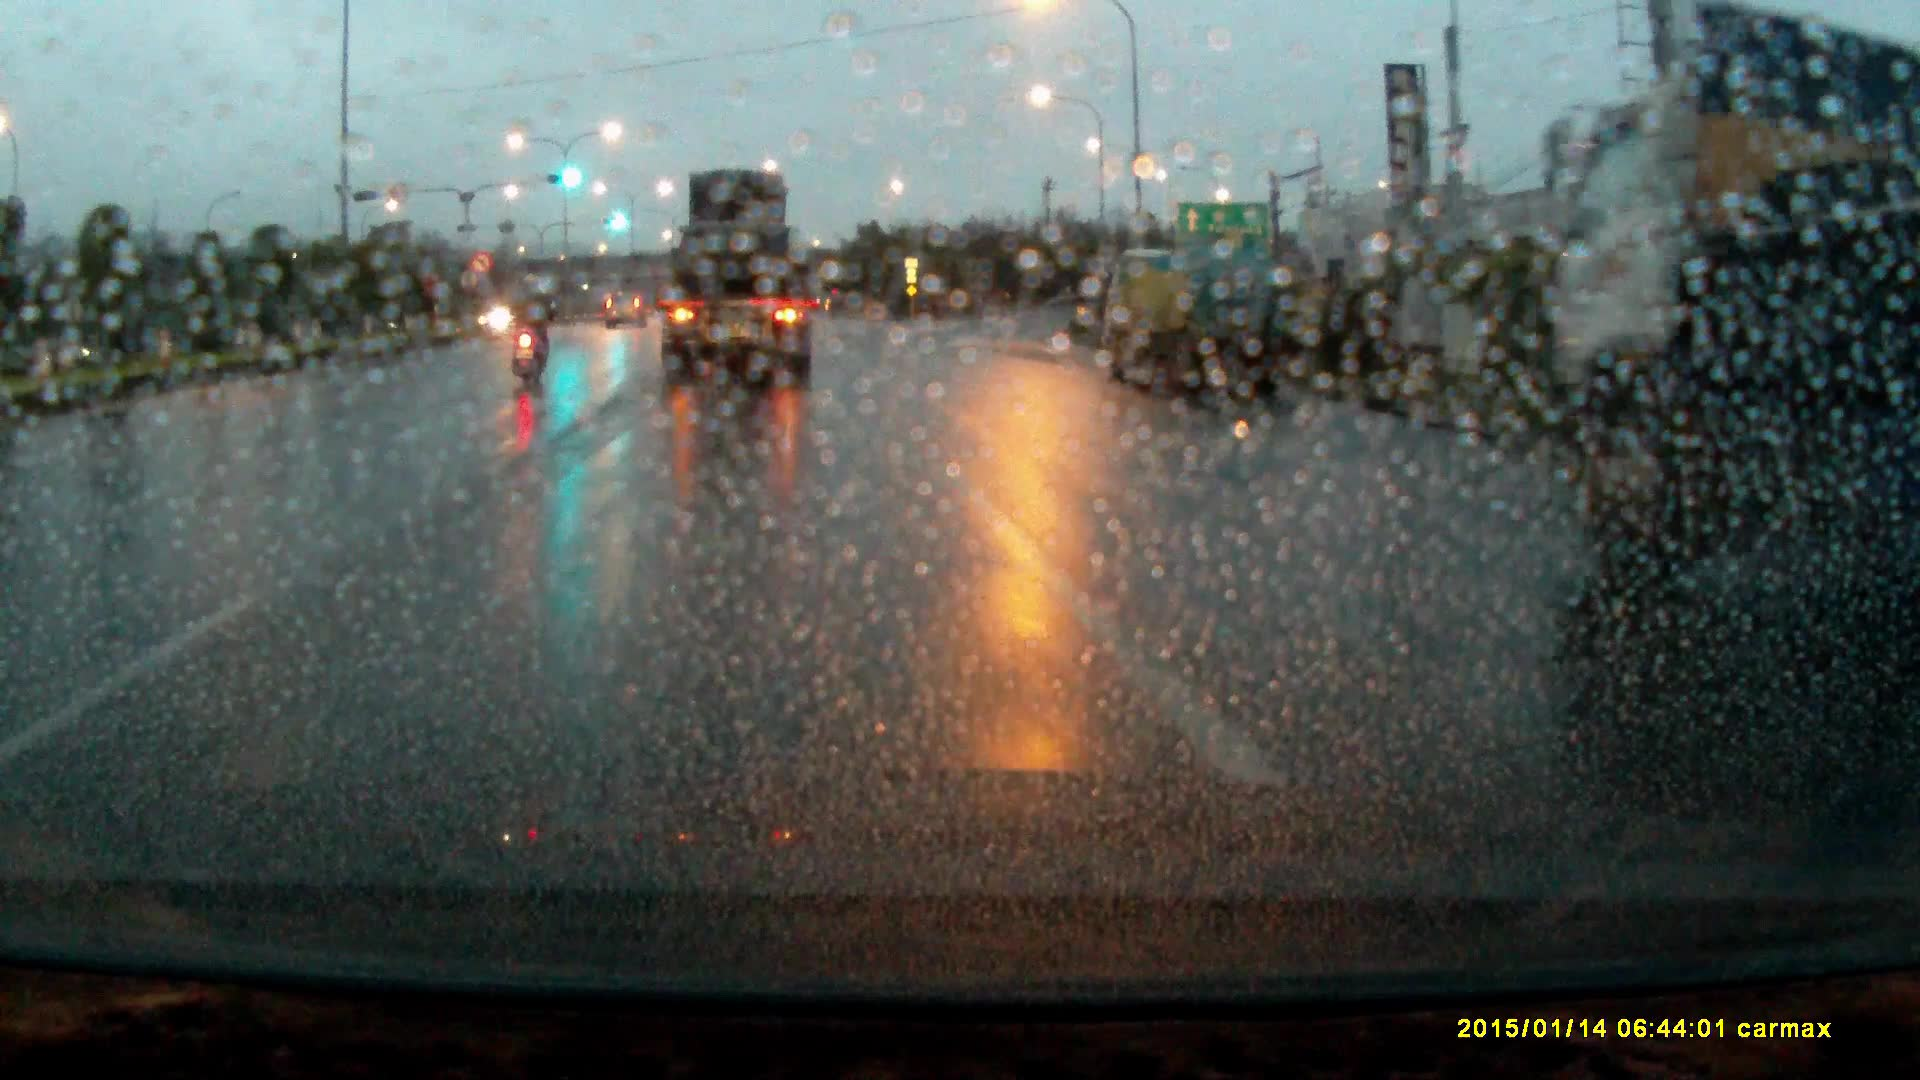rider: (507, 272, 560, 381)
vehicle: (1566, 18, 1920, 555), (656, 168, 817, 395), (1089, 250, 1306, 405), (604, 294, 647, 333)
